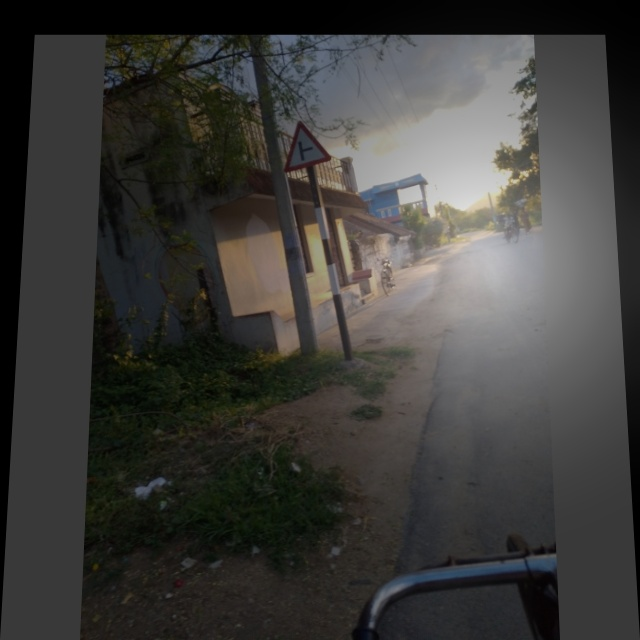Side_Road_Right: (278, 117, 336, 175)
